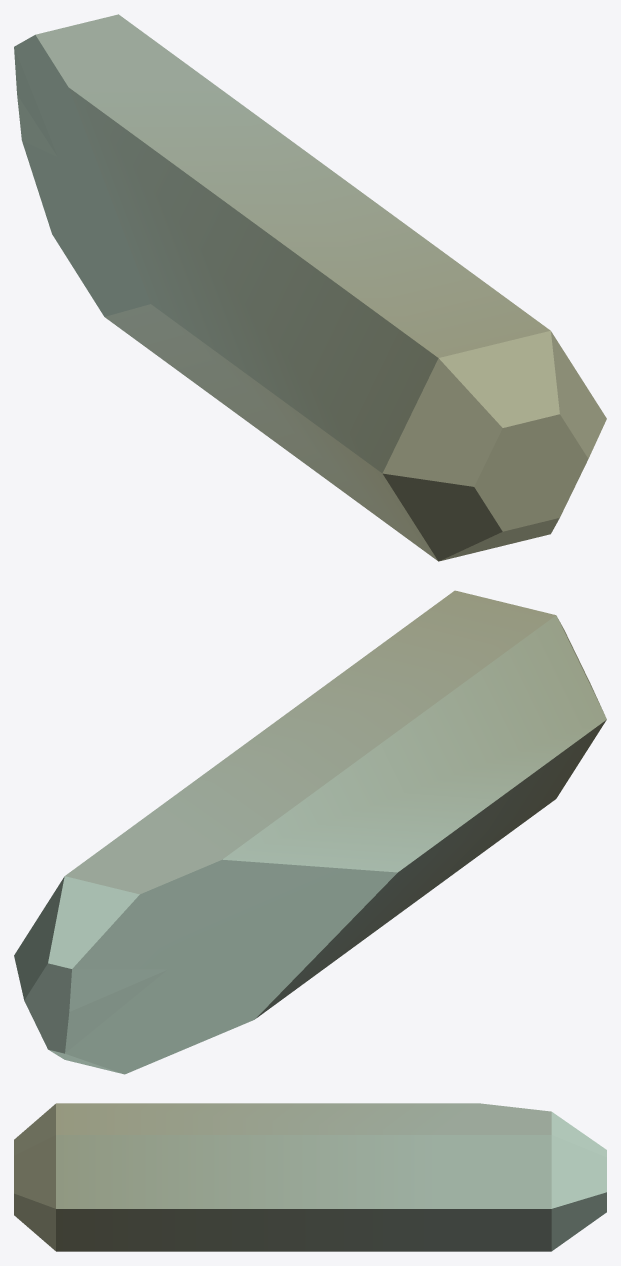
The model's file is ColoredCrystal.002.glb.
3 renders of one model, top to bottom at view 1: azimuth 30°, elevation 25°; view 2: azimuth 150°, elevation 25°; view 3: azimuth 270°, elevation 25°, orthographic. The views are drawn at different scales.
Parts seen in each view (by area): view 1: ColoredCrystal.002; view 2: ColoredCrystal.002; view 3: ColoredCrystal.002.
Part boxes in pixels (x1,y1,x2,y2): ColoredCrystal.002: (14,14,606,561); ColoredCrystal.002: (14,590,606,1074); ColoredCrystal.002: (14,1103,606,1251).
Size of the model in its own units: 150 by 130 by 597.
